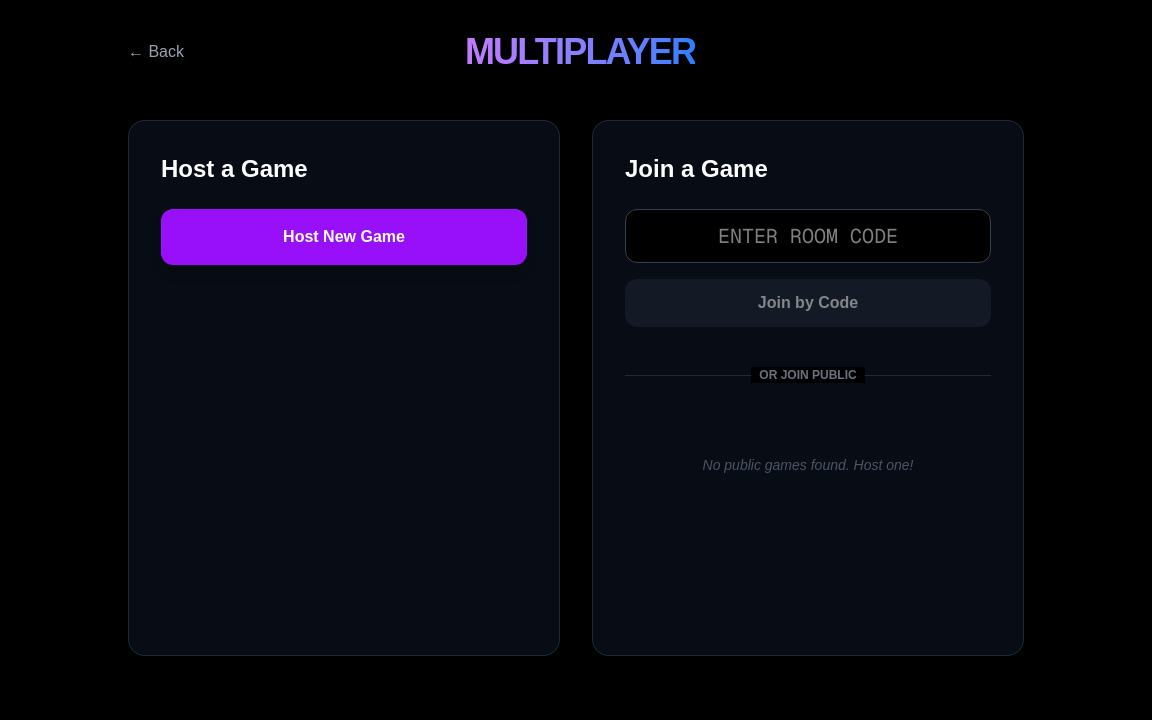
Multiplayer Selection Page › allows toggling between Public and Private
Click the button "Host New Game": (344, 237) [161,209,527,265]
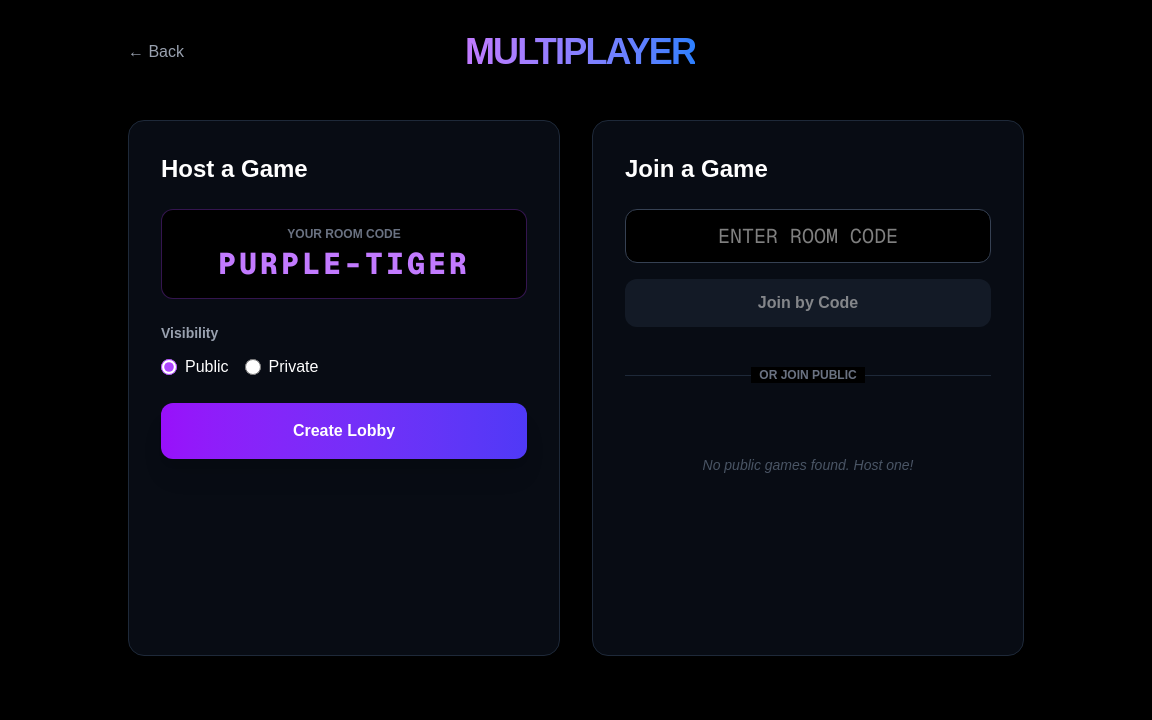
Result: the radio button labelled "Public" is checked at [161,359,177,375]
Click the radio button labelled "Private": (253, 367) [245,359,261,375]
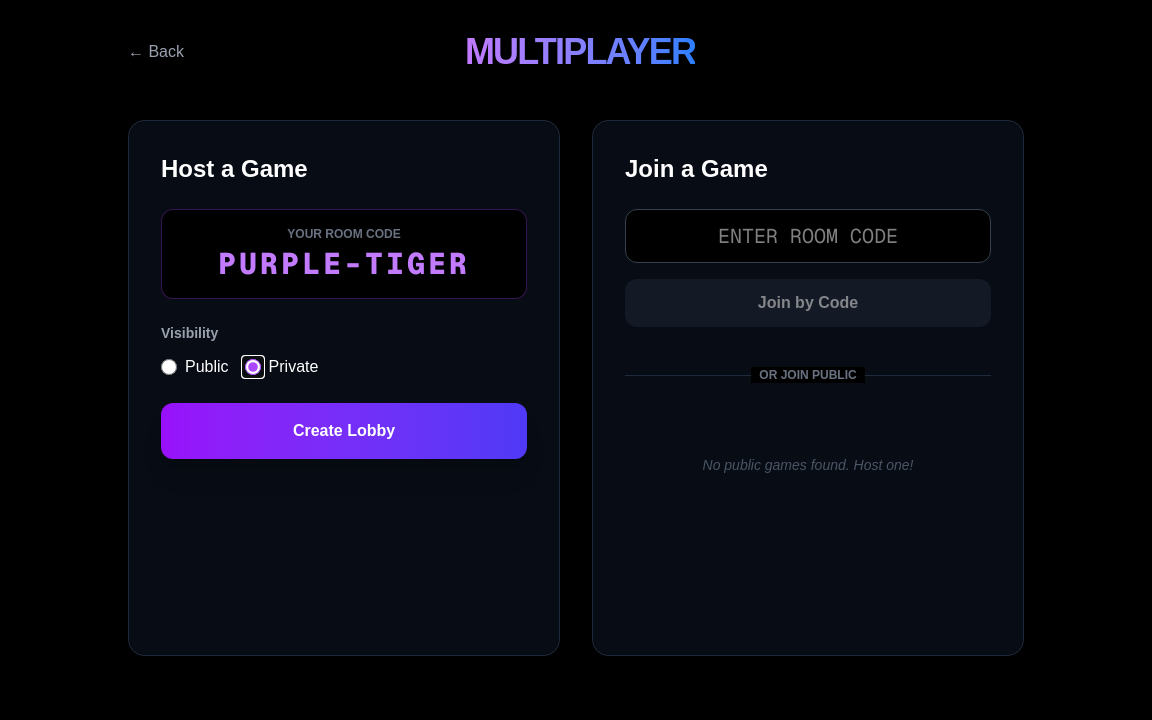
Result: the radio button labelled "Private" is checked at [245,359,261,375]
Result: the radio button labelled "Public" is not checked at [161,359,177,375]
